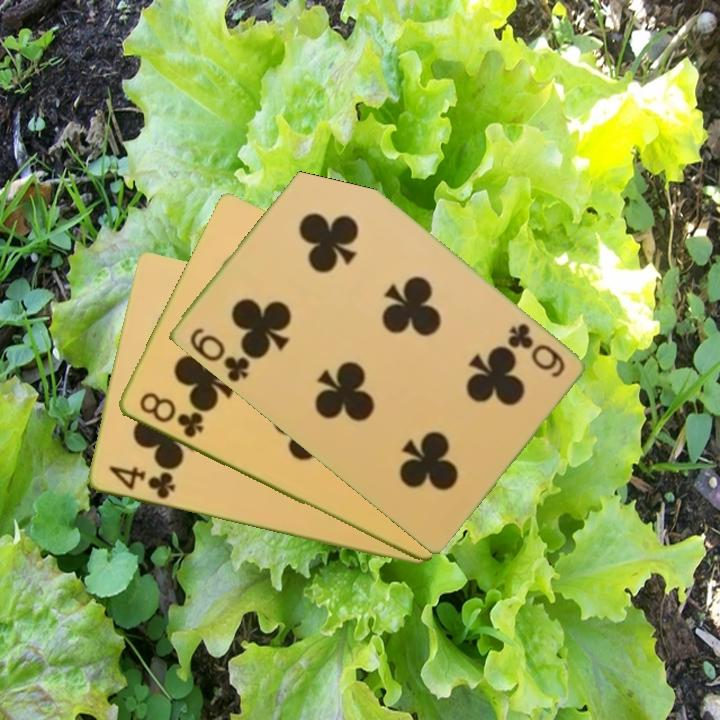4c: (105, 462, 178, 502)
6c: (185, 324, 252, 385), (503, 319, 568, 381)
8c: (135, 388, 206, 441)
